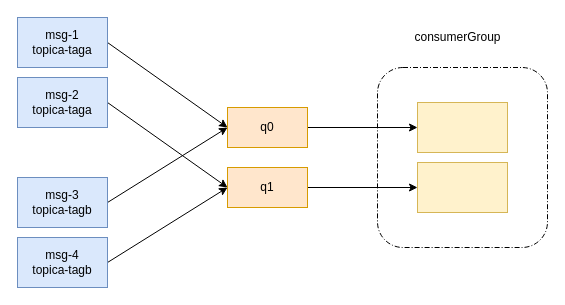
Some shapes in this 565 by 305 pixel diagram are drawn without their labels. Each missing label, with the centre of its shape:
"consumer1 订阅topica-taga" belongs at [462,127].
"consumer2 订阅topica-tagb" belongs at [462,187].
